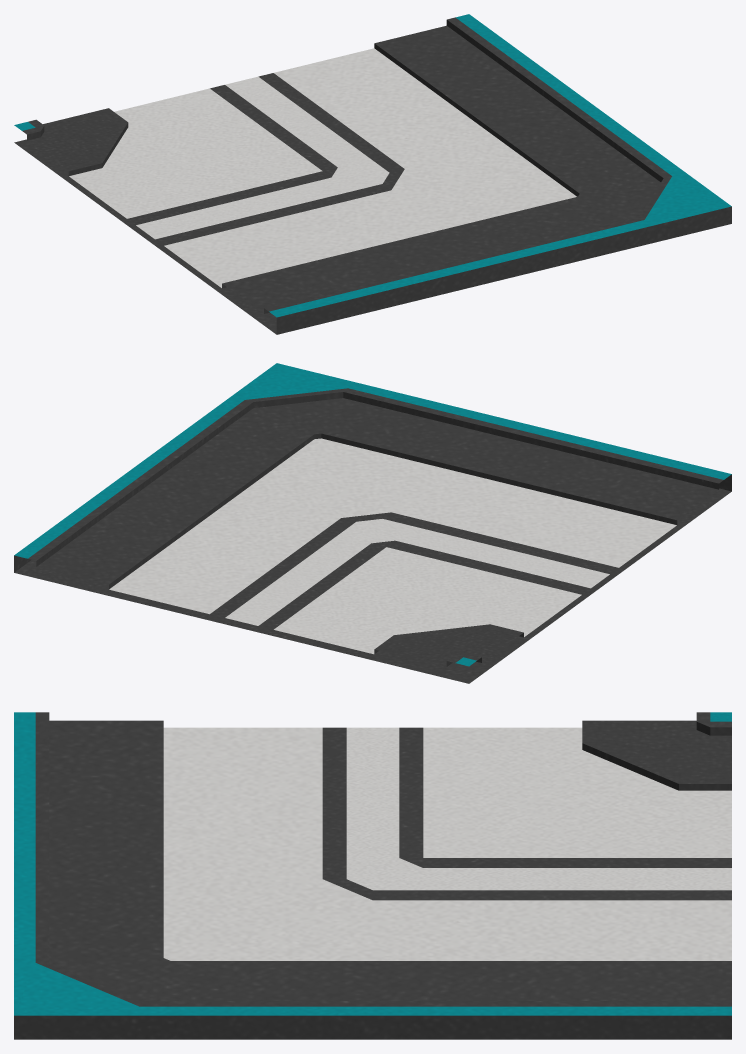
Rendered from Floor_1_LShape_Blank_LOD1.fbx.
3 views of the same model, one above another, from view 1: azimuth 30°, elevation 25°; view 2: azimuth 150°, elevation 25°; view 3: azimuth 270°, elevation 25° (orthographic). The views are drawn at different scales.
Parts seen in each view (by area): view 1: Floor_1_LShape_Blank_LOD1; view 2: Floor_1_LShape_Blank_LOD1; view 3: Floor_1_LShape_Blank_LOD1.
Part boxes in pixels (<box>): Floor_1_LShape_Blank_LOD1: <box>14,14,731,334</box>; Floor_1_LShape_Blank_LOD1: <box>14,363,731,683</box>; Floor_1_LShape_Blank_LOD1: <box>14,712,731,1039</box>.
Size of the model in its own units: 200 by 7.31 by 200.
